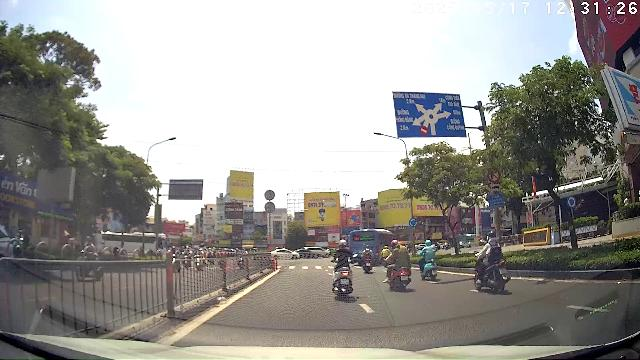303-noi-giao-nhau-chay-theo-vong-xuyen: (408, 218, 418, 228)
